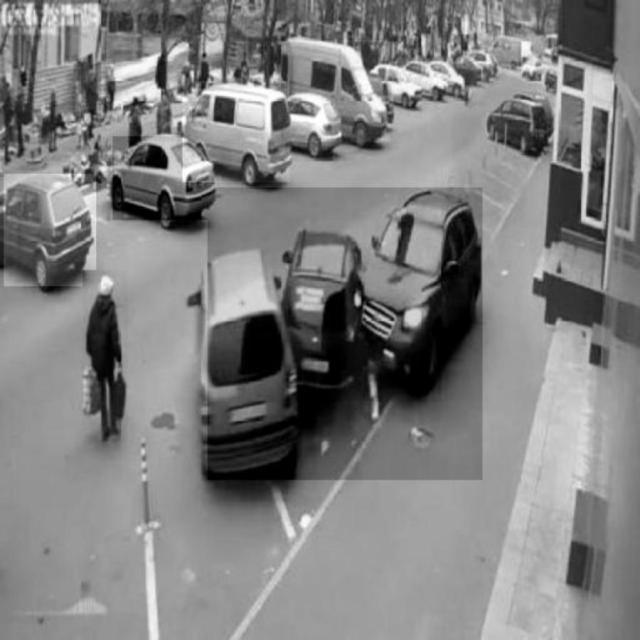accident: (207, 187, 483, 481)
person: (82, 271, 128, 443)
vehicle: (287, 40, 390, 142), (4, 173, 96, 285), (182, 90, 290, 183), (112, 137, 215, 220), (485, 99, 545, 154)
